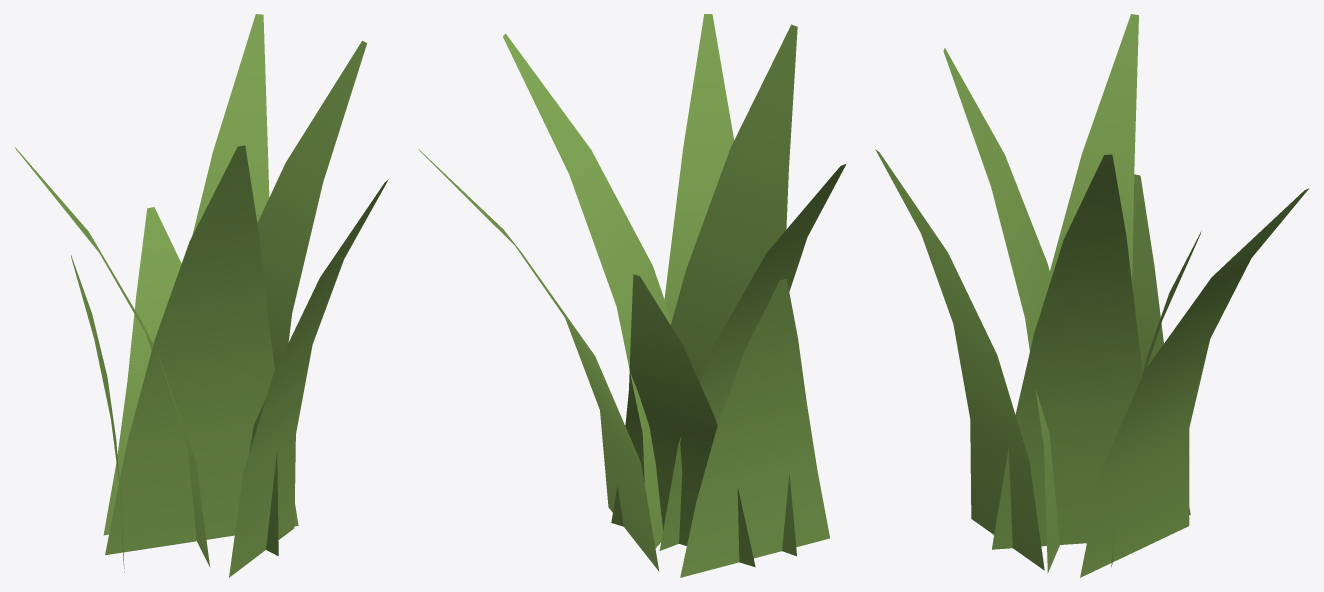
File: grass_tuft_1.fbx
The picture shows the model from 3 angles, left to right: view 1: azimuth 30°, elevation 25°; view 2: azimuth 150°, elevation 25°; view 3: azimuth 270°, elevation 25°; orthographic projection. The views are drawn at different scales.
Parts seen in each view (by area): view 1: grass_tuft_1; view 2: grass_tuft_1; view 3: grass_tuft_1.
Boxes of the visible parts, x1,y1,x2,y2 form: grass_tuft_1: [15, 14, 388, 577]; grass_tuft_1: [418, 14, 846, 577]; grass_tuft_1: [875, 14, 1309, 577].
Size of the model in its own units: 0.0495 by 0.0616 by 0.0517.
